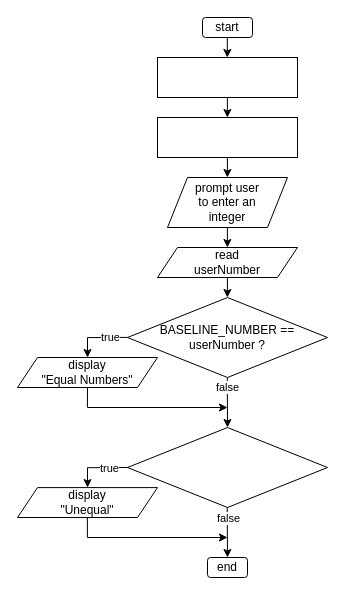
Image size: 345x595. Some labels were removed from this diagram. The shapes that lost their labels are listed below. From the top down, each one's box as (x1, y1, x2, y2) in pixels, then its label:
(156, 56, 298, 98): define constant int BASELINE_NUMBER
(156, 116, 298, 158): assign value 30 to BASELINE_NUMBER
(126, 426, 328, 508): BASELINE_NUMBER != userNumber ?
